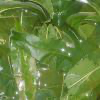Peach leaf: (4, 27, 74, 73), (8, 17, 40, 99)
